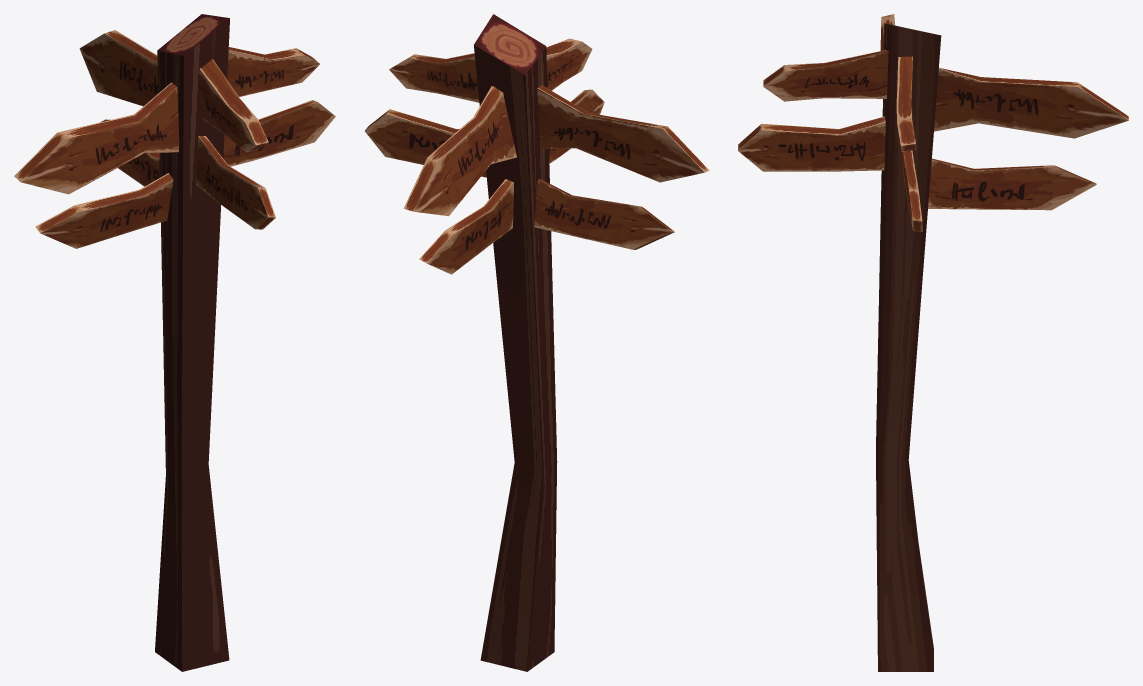
File: poteau-indicateur.glb
3 renders of one model, left to right at view 1: azimuth 30°, elevation 25°; view 2: azimuth 150°, elevation 25°; view 3: azimuth 270°, elevation 25°, orthographic. The views are drawn at different scales.
Visible parts, largest first — view 1: SM_PROP_signpost_03; view 2: SM_PROP_signpost_03; view 3: SM_PROP_signpost_03.
Boxes of the visible parts, x1=… form: SM_PROP_signpost_03: x1=14, y1=14, x2=335, y2=671; SM_PROP_signpost_03: x1=365, y1=14, x2=709, y2=671; SM_PROP_signpost_03: x1=738, y1=14, x2=1128, y2=671.
Bounding box in the file's own units: 2.39 × 4.38 × 2.39.
Materials: 3 (3 with a texture image).
